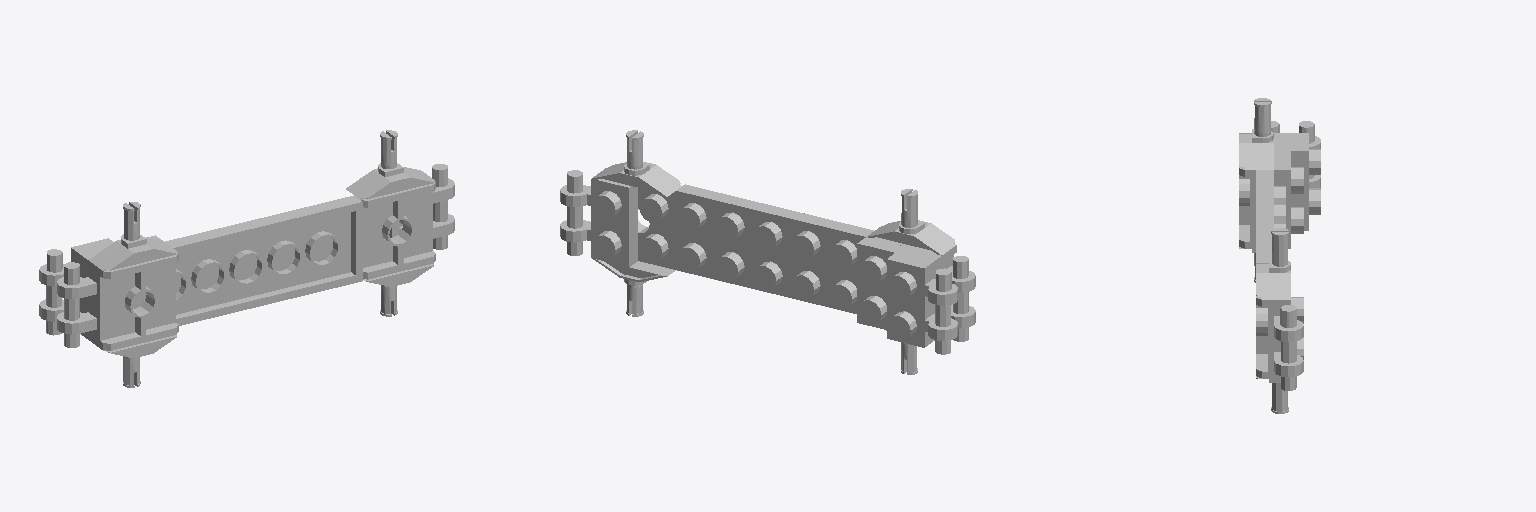
Rendered from chassis.obj.
3 views of the same model, side by side, from view 1: azimuth 30°, elevation 25°; view 2: azimuth 150°, elevation 25°; view 3: azimuth 270°, elevation 25° (orthographic).
Bounding box in the file's own units: 84.23 × 35.74 × 15.